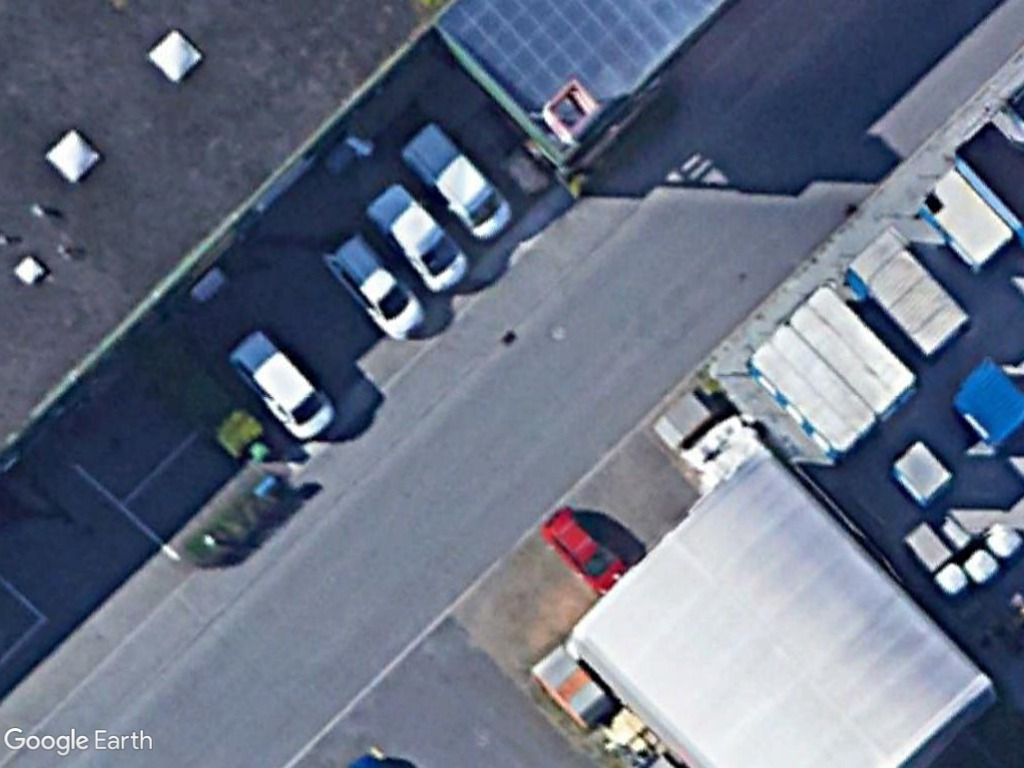car: (538, 505, 628, 595)
van: (396, 123, 514, 244), (227, 331, 336, 444), (366, 181, 471, 290), (327, 232, 428, 342)
